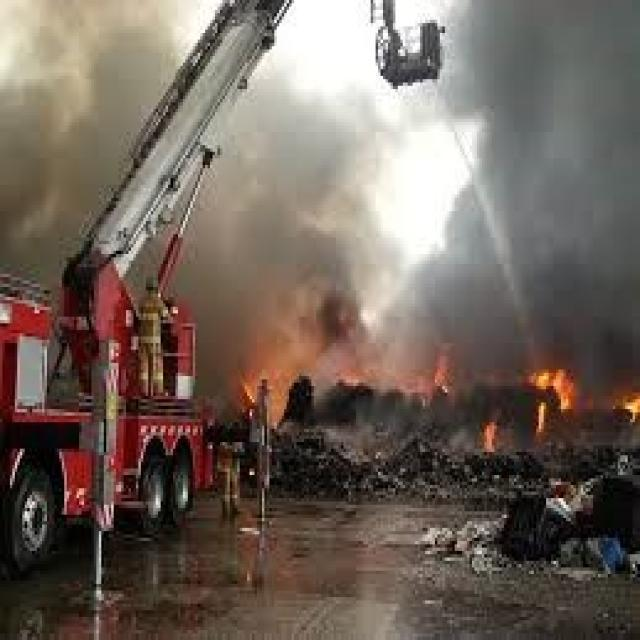Fire: (510, 358, 580, 446), (235, 357, 298, 421), (413, 345, 460, 403), (472, 411, 506, 462), (615, 381, 640, 434)
Smoke: (475, 0, 640, 423), (201, 71, 406, 377), (0, 2, 101, 270), (1, 2, 159, 170), (2, 115, 78, 282)
